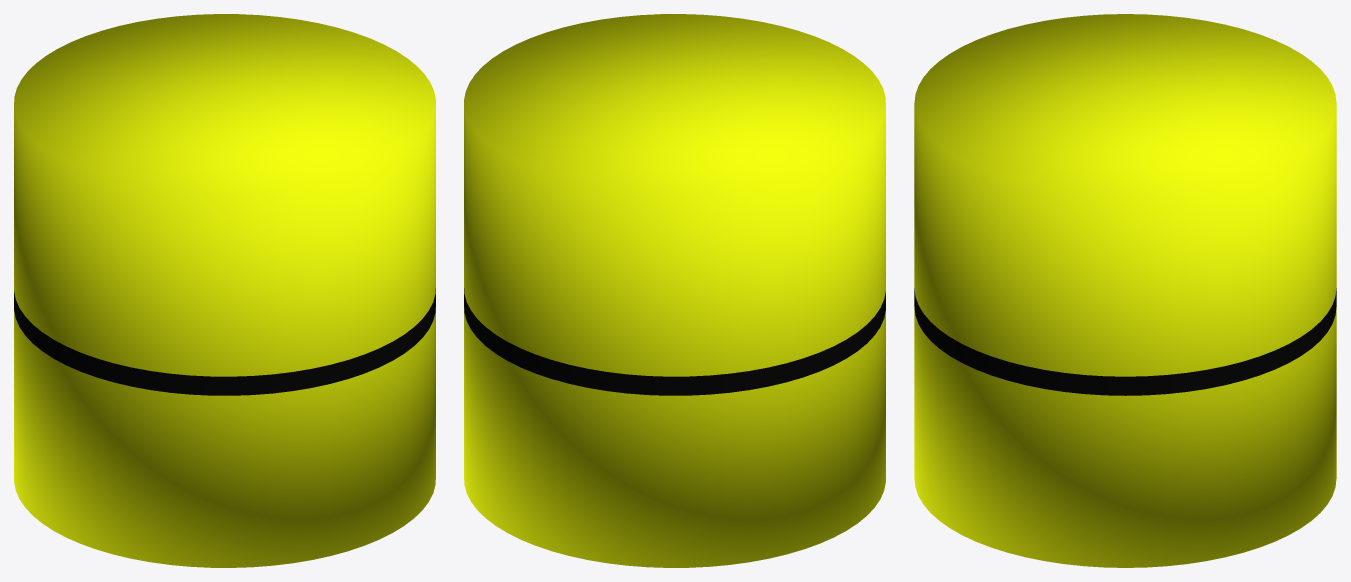
Rendered from Cilindro2.fbx.
3 renders of one model, left to right at view 1: azimuth 30°, elevation 25°; view 2: azimuth 150°, elevation 25°; view 3: azimuth 270°, elevation 25°, orthographic.
Visible parts, largest first — view 1: Cilindro2; view 2: Cilindro2; view 3: Cilindro2.
Boxes of the visible parts, x1,y1,x2,y2 form: Cilindro2: (14, 14, 435, 567); Cilindro2: (464, 14, 885, 567); Cilindro2: (914, 14, 1336, 567).
Size of the model in its own units: 200 by 196 by 200.
